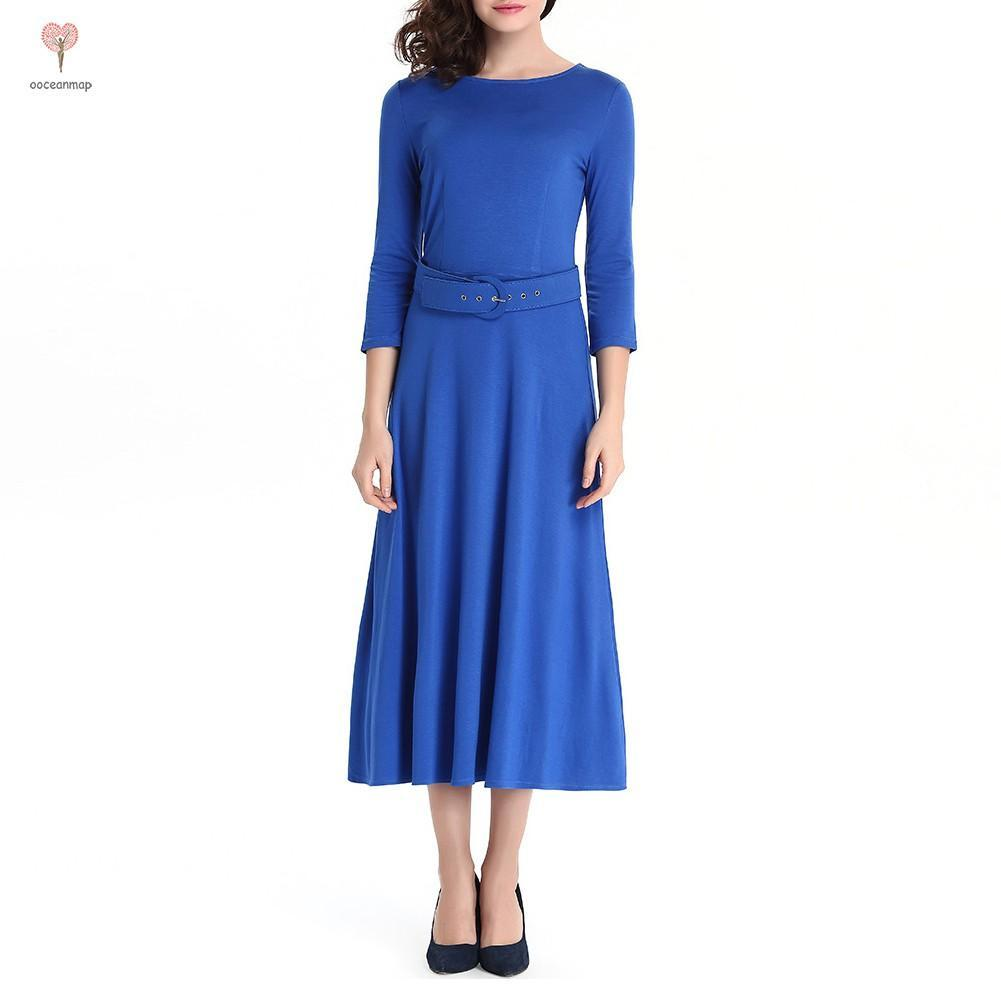dress: (346, 62, 637, 813)
